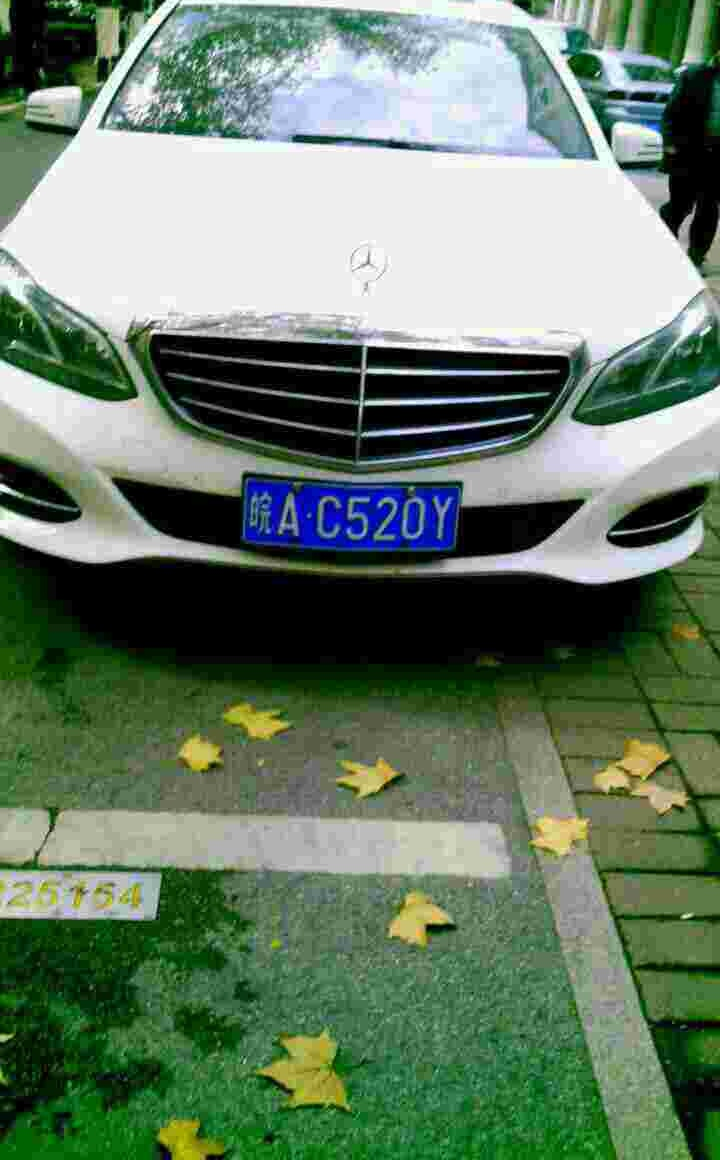plate: (242, 478, 469, 556)
